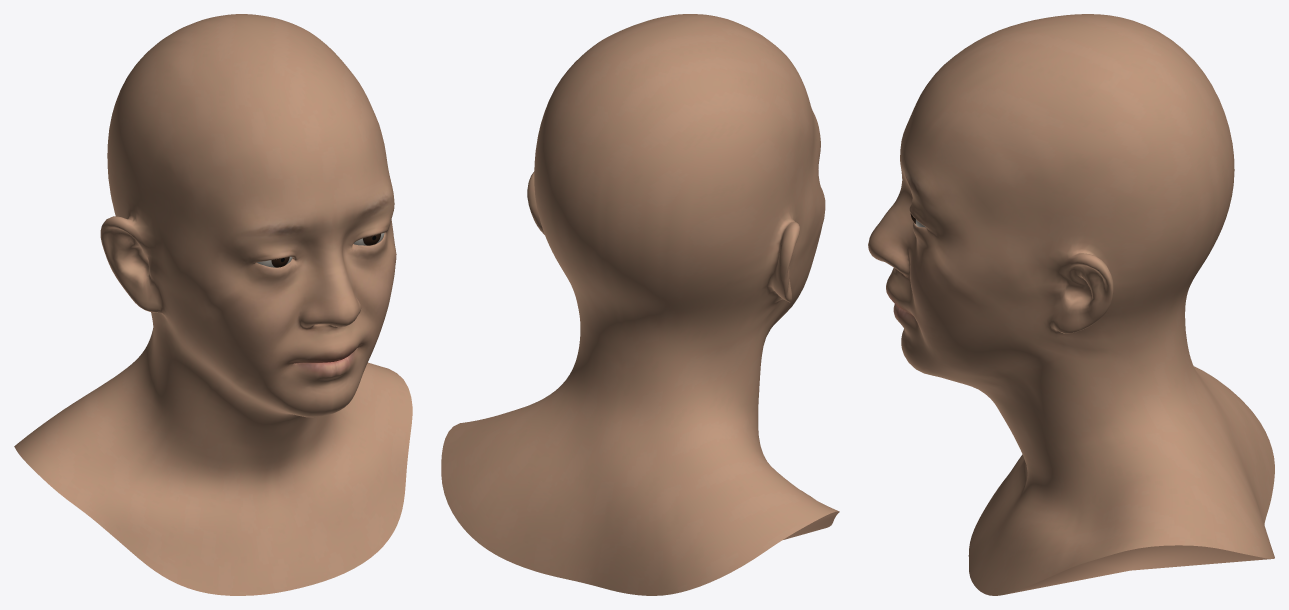
Rendered from base-female.glb.
The picture shows the model from 3 angles, left to right: view 1: azimuth 30°, elevation 25°; view 2: azimuth 150°, elevation 25°; view 3: azimuth 270°, elevation 25°; orthographic projection. The views are drawn at different scales.
Parts seen in each view (by area): view 1: skin; view 2: skin; view 3: skin, neck-cap.
Part boxes in pixels (x1,y1,x2,y2): skin: [14, 14, 412, 595]; skin: [441, 14, 838, 595]; skin: [868, 14, 1274, 595]; neck-cap: [1007, 545, 1270, 594].
Size of the model in its own units: 0.2555 by 0.3476 by 0.2357.
7 materials, 4 textured.
